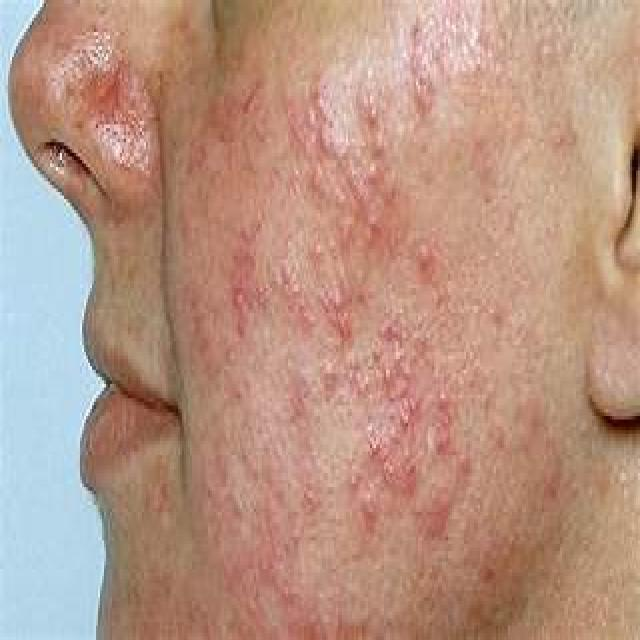pigmentation: (260, 94, 474, 537)
